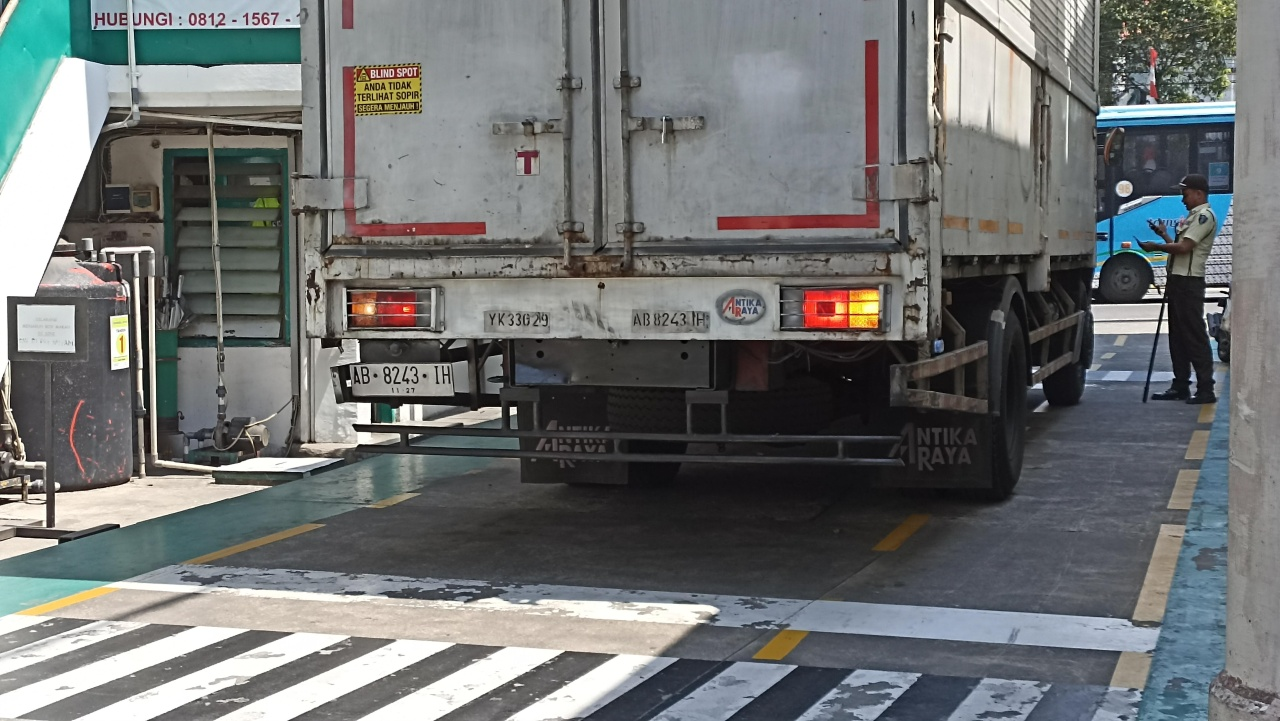plate: (350, 363, 455, 396)
